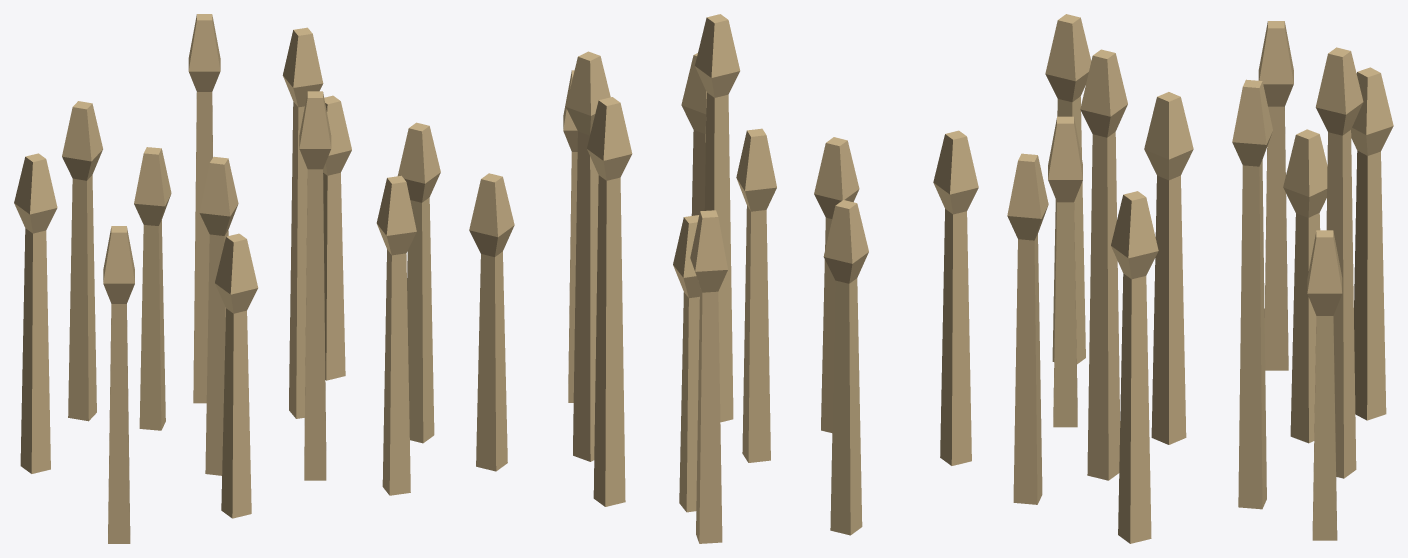
Rendered from crops_wheatStageB.glb.
The picture shows the model from 3 angles, left to right: view 1: azimuth 30°, elevation 25°; view 2: azimuth 150°, elevation 25°; view 3: azimuth 270°, elevation 25°; orthographic projection. The views are drawn at different scales.
Parts seen in each view (by area): view 1: crops_wheatStageB; view 2: crops_wheatStageB; view 3: crops_wheatStageB.
Boxes of the visible parts, x1=… form: crops_wheatStageB: x1=14, y1=14, x2=440, y2=543; crops_wheatStageB: x1=469, y1=14, x2=978, y2=543; crops_wheatStageB: x1=1007, y1=14, x2=1393, y2=543.
Bounding box in the file's own units: 0.5396 × 0.5349 × 0.4467.
